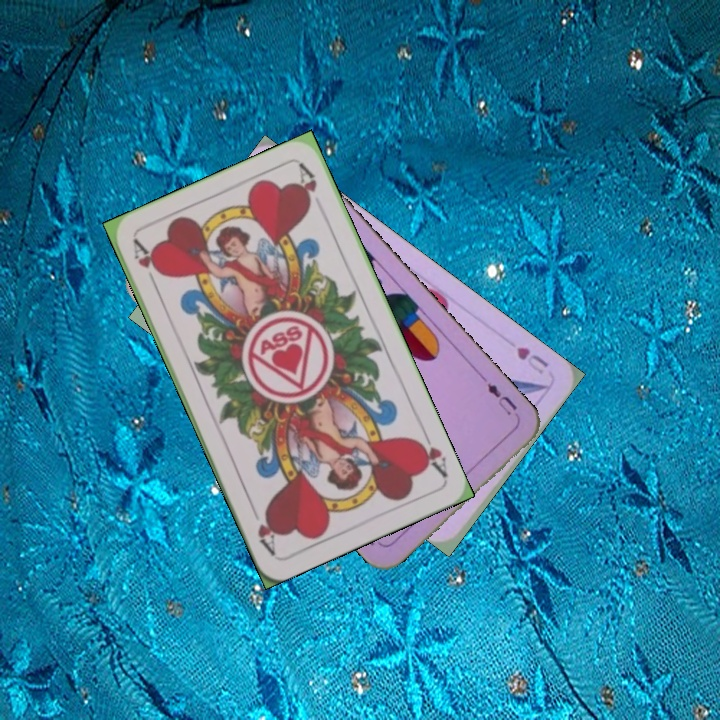EU: (482, 379, 523, 422)
HA: (410, 425, 450, 481), (129, 235, 163, 292)
HU: (512, 342, 551, 378)
